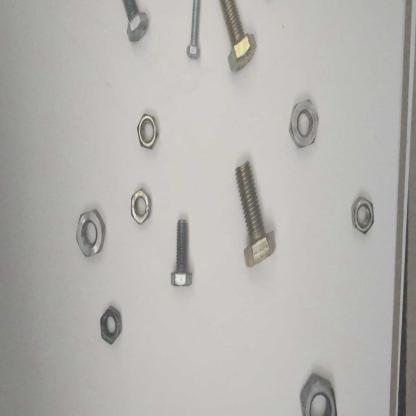Bolts: (230, 157, 280, 277), (218, 0, 261, 84), (114, 0, 157, 53), (171, 212, 198, 296), (184, 1, 205, 69)
NUTS: (284, 93, 329, 166), (289, 357, 340, 416), (95, 295, 132, 357), (74, 201, 108, 261), (124, 178, 155, 238), (350, 188, 376, 243), (135, 112, 162, 154)
